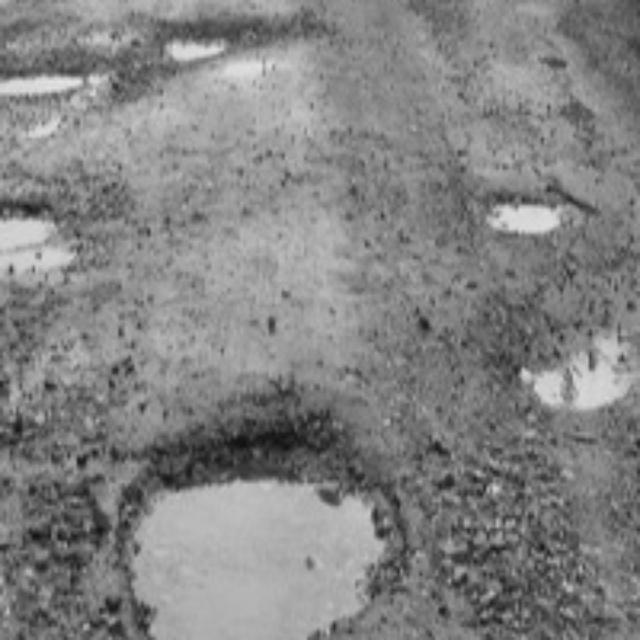Pothole: (115, 446, 348, 640), (510, 336, 640, 464), (160, 17, 236, 71), (489, 184, 569, 234), (0, 192, 60, 258), (0, 55, 84, 93)
